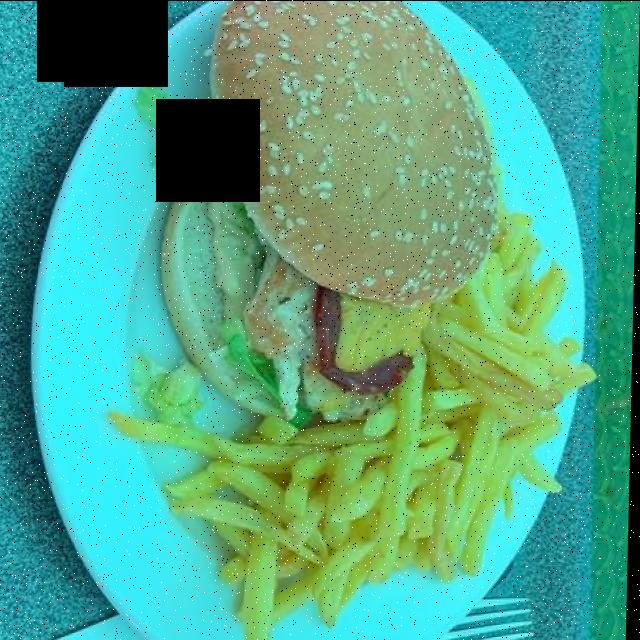cheese: (336, 299, 435, 389)
chips-french-fries: (121, 205, 592, 611)
hamburger-bread-meat-ketchup: (159, 6, 501, 424)
mayonnaise: (212, 199, 251, 319)
